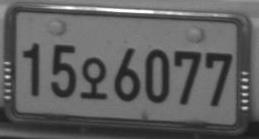0: (145, 48, 169, 103)
1: (21, 43, 45, 96)
5: (50, 44, 77, 98)
6: (113, 47, 140, 101)
7: (174, 50, 202, 105), (205, 51, 232, 106)
오: (81, 57, 107, 100)
